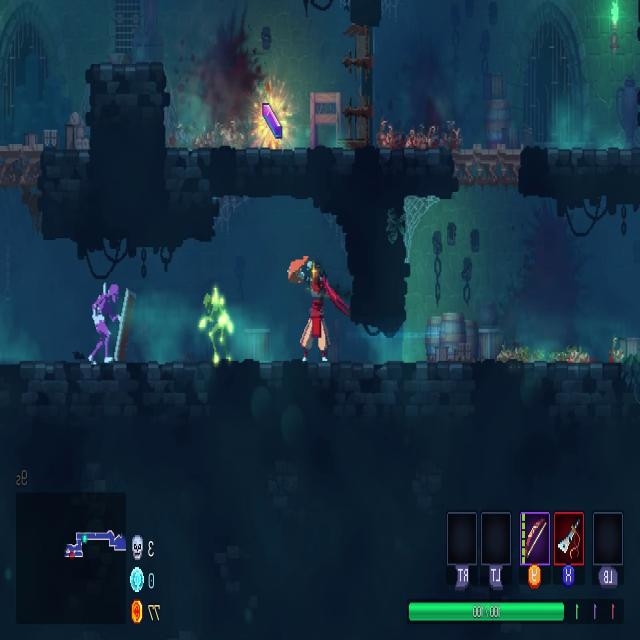agents: (286, 253, 335, 366)
enemy_green_puncher: (197, 286, 235, 365)
enemy_purple_shield: (88, 282, 130, 362)
wood_floor: (450, 142, 522, 190), (0, 140, 42, 194)
